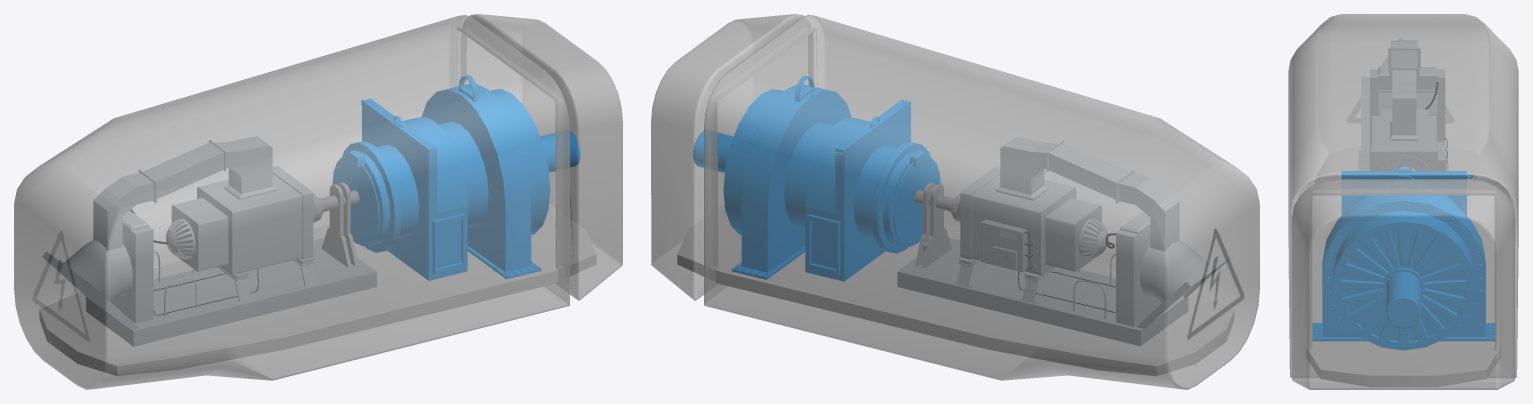
The model's file is generator.glb.
The picture shows the model from 3 angles, left to right: view 1: azimuth 30°, elevation 25°; view 2: azimuth 150°, elevation 25°; view 3: azimuth 270°, elevation 25°; orthographic projection. The views are drawn at different scales.
Parts seen in each view (by area): view 1: hull, pasted__polySurface1, polySurface2, base; view 2: hull, pasted__polySurface1, polySurface2, base; view 3: hull, polySurface2, base, pasted__polySurface1.
Boxes of the visible parts, x1=… form: hull: x1=14, y1=14, x2=622, y2=389; pasted__polySurface1: x1=42, y1=136, x2=376, y2=346; polySurface2: x1=332, y1=75, x2=580, y2=280; base: x1=39, y1=204, x2=596, y2=375; hull: x1=651, y1=14, x2=1259, y2=389; pasted__polySurface1: x1=897, y1=137, x2=1233, y2=345; polySurface2: x1=693, y1=75, x2=940, y2=281; base: x1=677, y1=204, x2=1234, y2=376; hull: x1=1288, y1=14, x2=1518, y2=389; polySurface2: x1=1312, y1=164, x2=1494, y2=350; base: x1=1307, y1=146, x2=1499, y2=387; pasted__polySurface1: x1=1358, y1=40, x2=1448, y2=170.
Bounding box in the file's own units: 2.68 × 1.09 × 1.11.
Materials: 4 (3 with a texture image).
